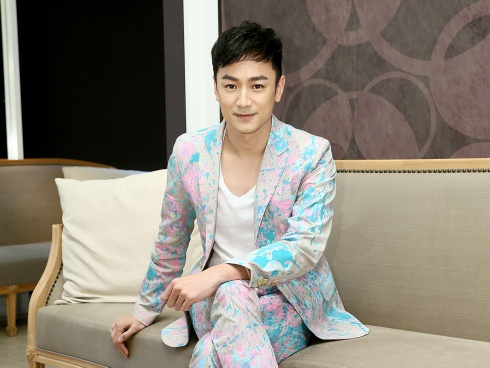male: (198, 20, 299, 141)
